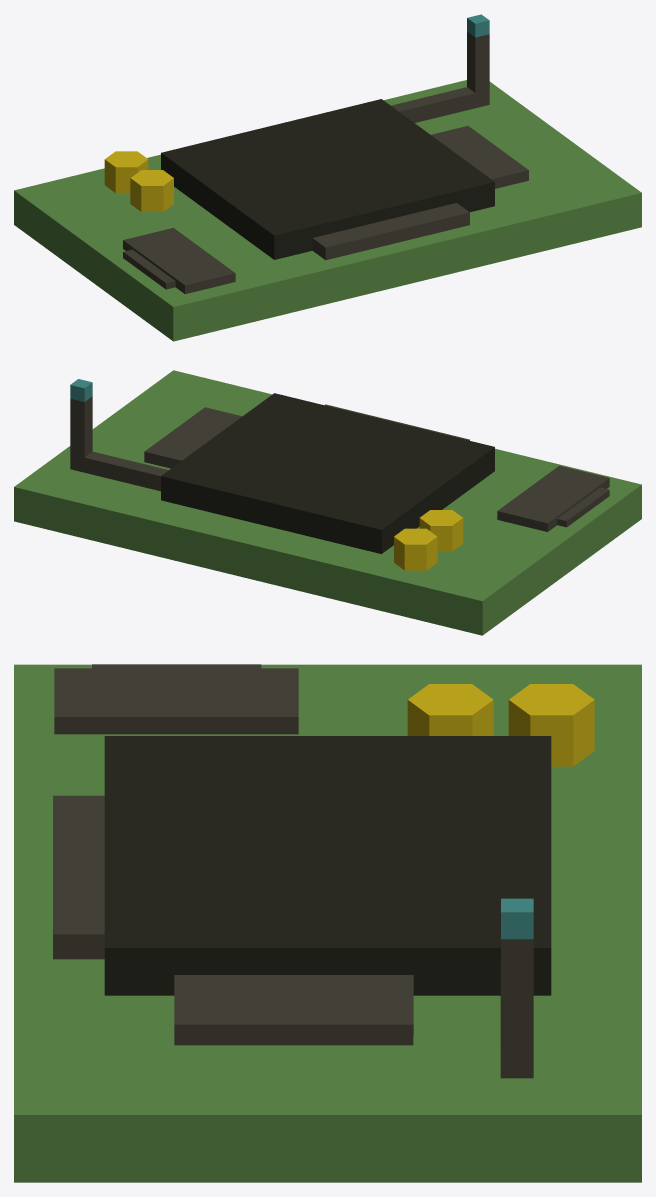
File: control_board.glb
3 renders of one model, top to bottom at view 1: azimuth 30°, elevation 25°; view 2: azimuth 150°, elevation 25°; view 3: azimuth 270°, elevation 25°, orthographic. The views are drawn at different scales.
Parts seen in each view (by area): view 1: Cube; view 2: Cube; view 3: Cube.
Part boxes in pixels (x1=…): Cube: x1=14, y1=14, x2=641, y2=341; Cube: x1=14, y1=370, x2=641, y2=635; Cube: x1=14, y1=664, x2=641, y2=1182.
Bounding box in the file's own units: 1.04 × 0.2605 × 0.6107.
1 material, 1 textured.
